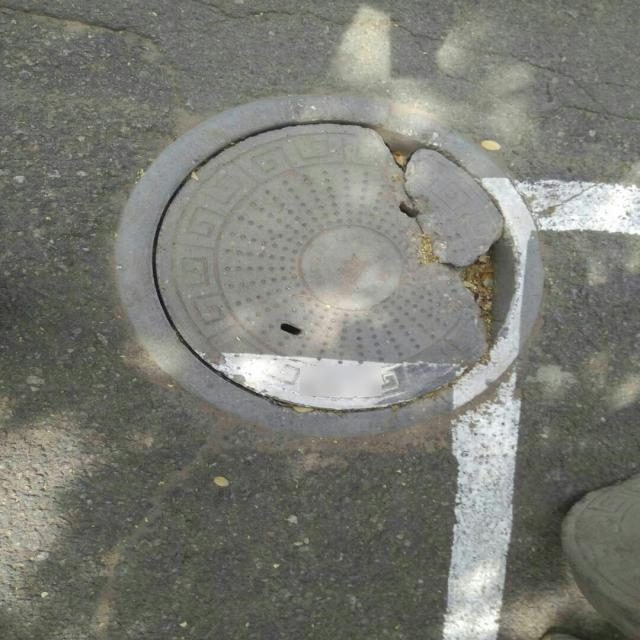Broken: (114, 94, 542, 439)
